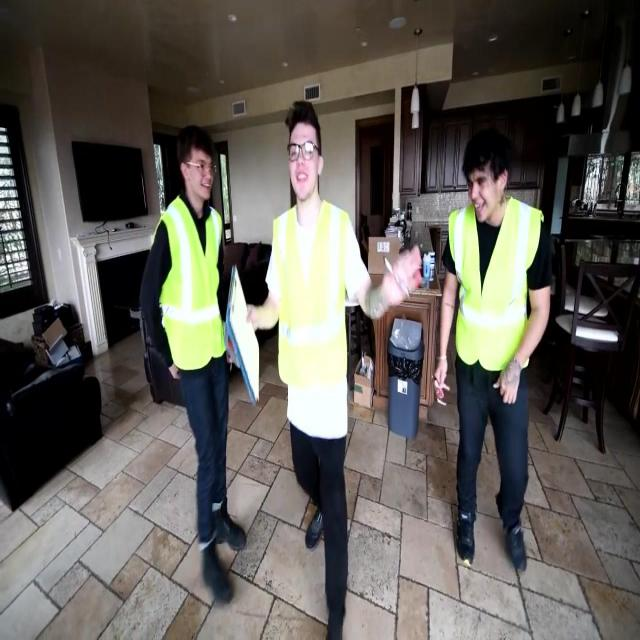Reflective-Jacket: (271, 196, 355, 433), (445, 194, 547, 377), (156, 195, 229, 377)
